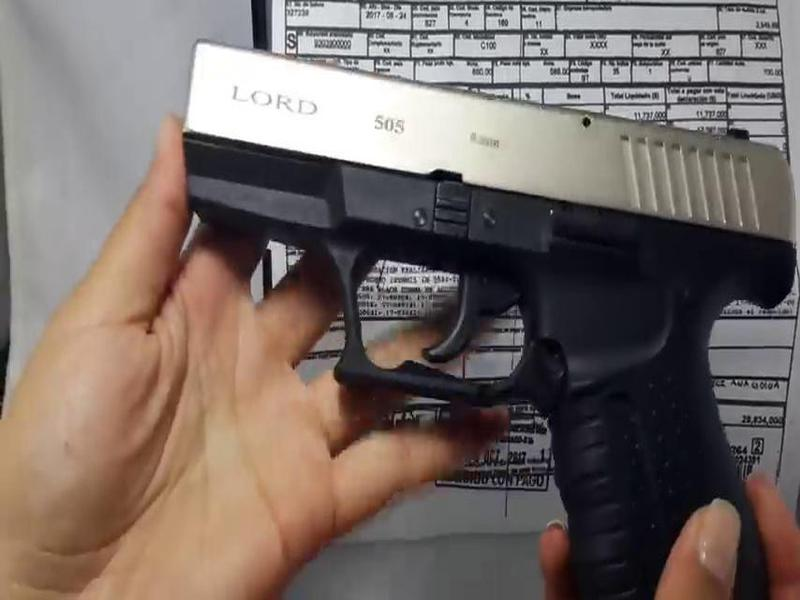Pistola: (175, 24, 795, 578)
